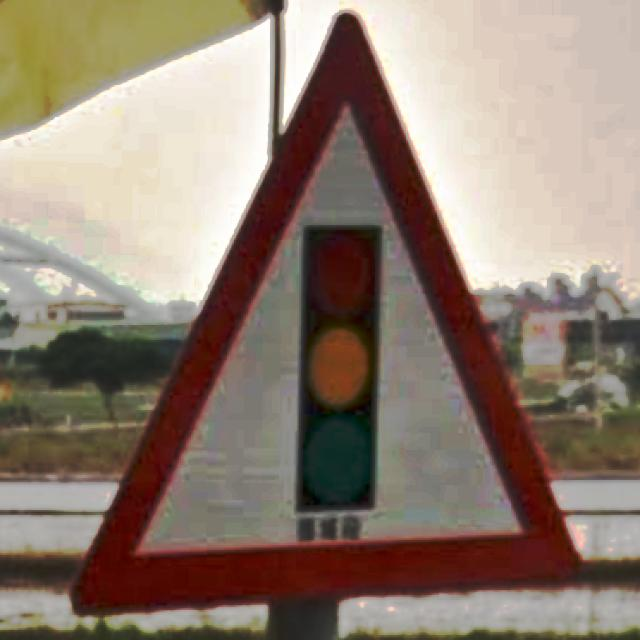signalahead: (69, 12, 585, 617)
